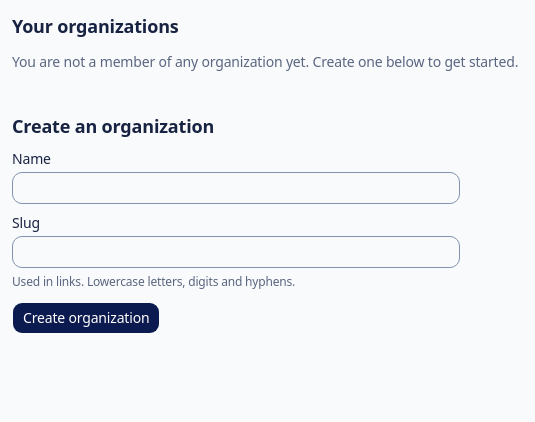
Test: /home org directory › validates client-side before calling the API
The width and height of the screenshot is (535, 422).
Click the button "Create organization": x=86, y=318 [12, 302, 160, 334]
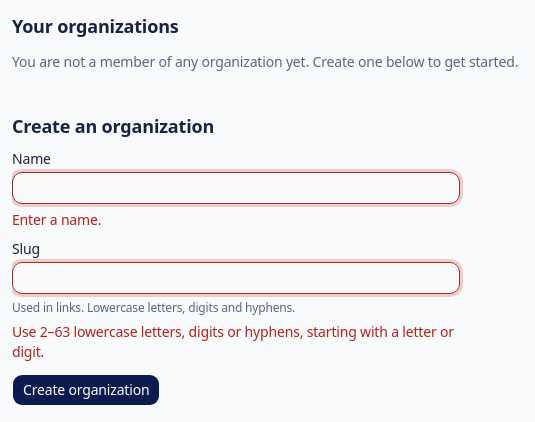
Expected: the text "Enter a name." is shown, [12, 210, 101, 229]
